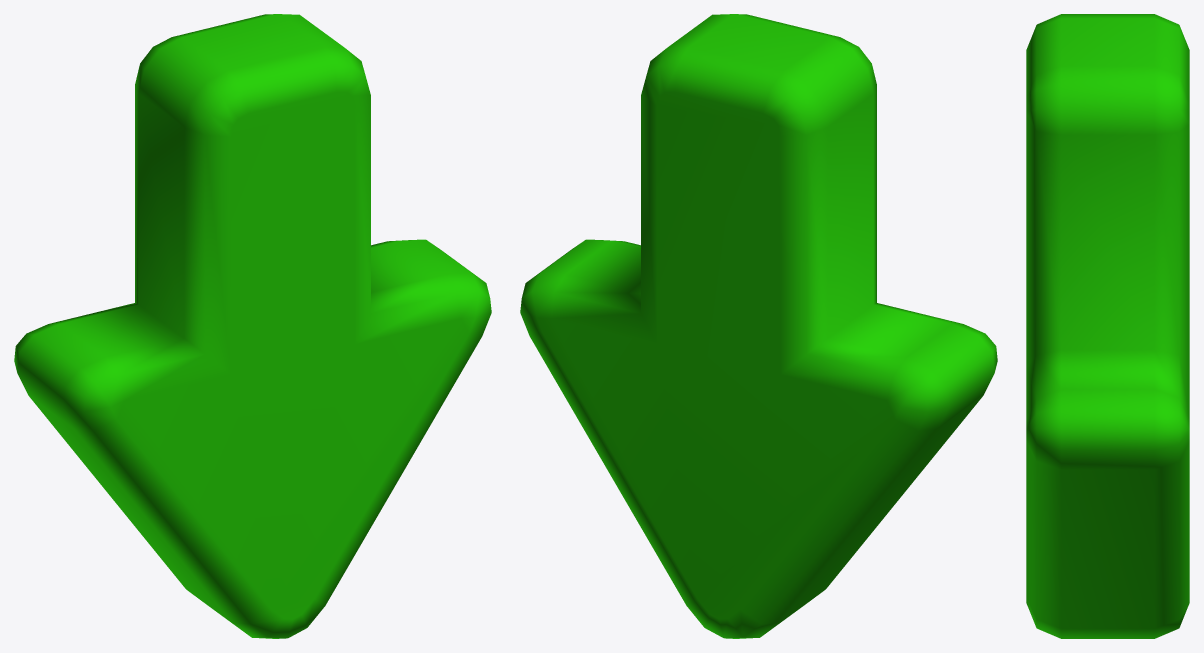
The model's file is Arrow.fbx.
3 renders of one model, left to right at view 1: azimuth 30°, elevation 25°; view 2: azimuth 150°, elevation 25°; view 3: azimuth 270°, elevation 25°, orthographic. The views are drawn at different scales.
Visible parts, largest first — view 1: Arrow; view 2: Arrow; view 3: Arrow.
Part boxes in pixels (bbox=[...]): Arrow: bbox=[14, 14, 491, 638]; Arrow: bbox=[520, 14, 997, 638]; Arrow: bbox=[1026, 14, 1189, 638].
Bounding box in the file's own units: 88.95 × 116 × 28.97.
